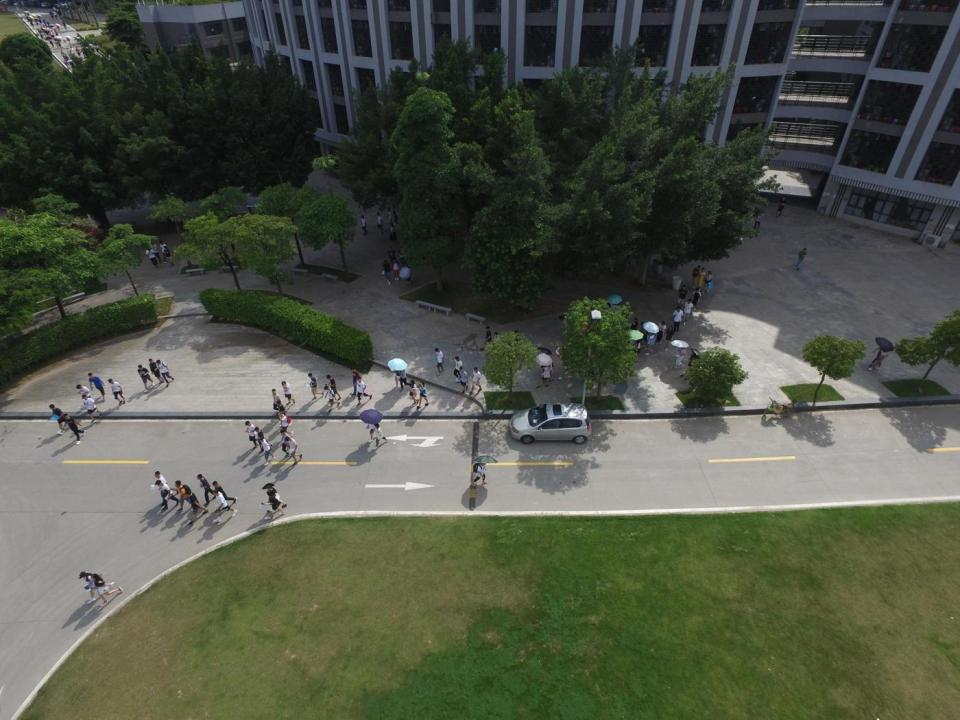car: (509, 402, 592, 444)
